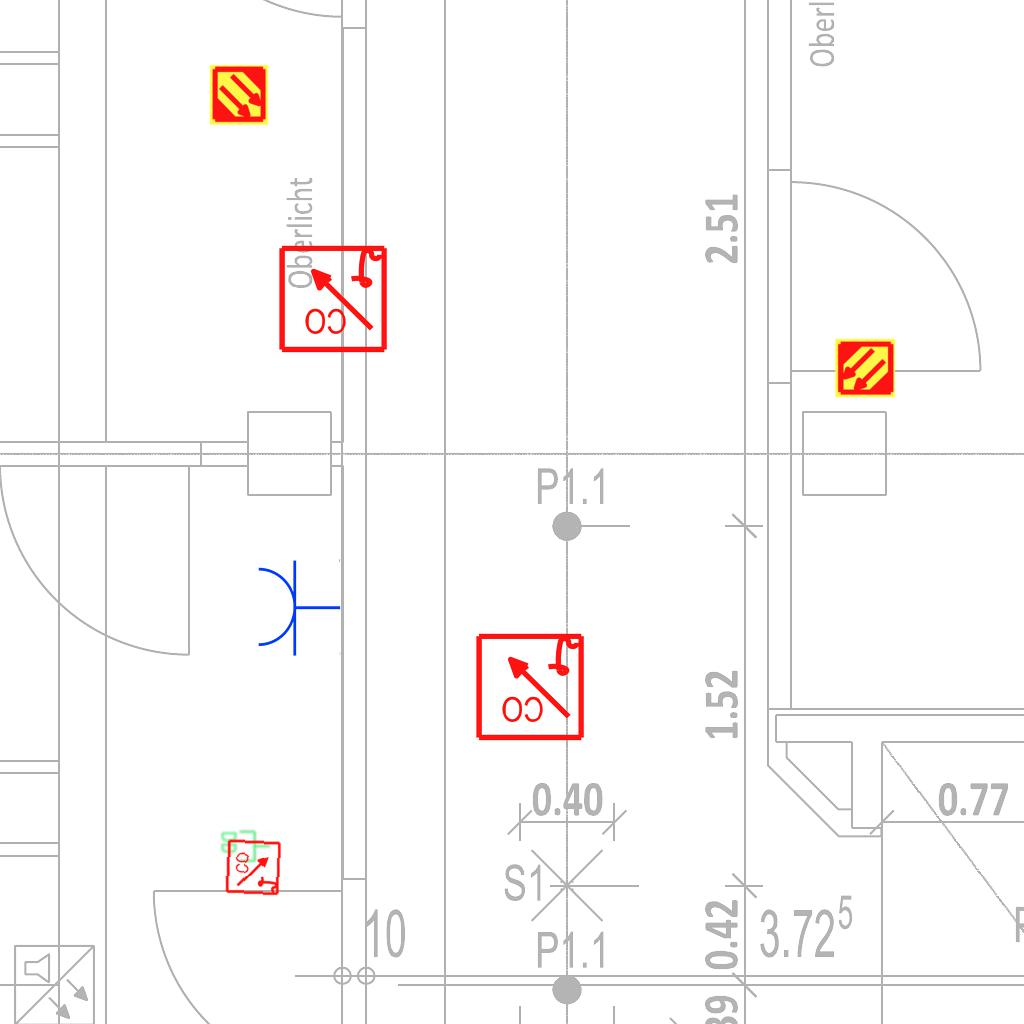ASR_Ansaugrauchmelder: (834, 337, 896, 399), (208, 64, 270, 126)
Datenanschluss_zweifach: (220, 829, 271, 863)
ROA_Rauchmelder_optisch_mit_Signalgeber_(Sockelsirene): (473, 629, 586, 742), (276, 241, 389, 354), (224, 837, 284, 897)
Schukosteckdose_einfach: (254, 557, 341, 657)
